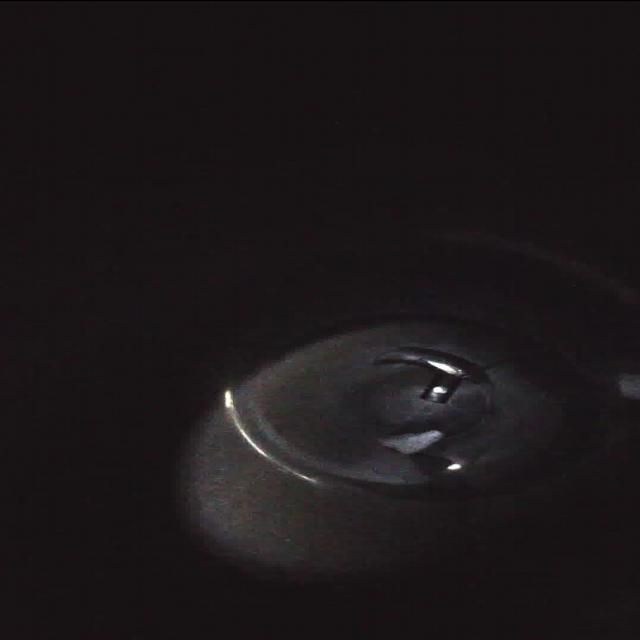impurity: (368, 426, 446, 458)
